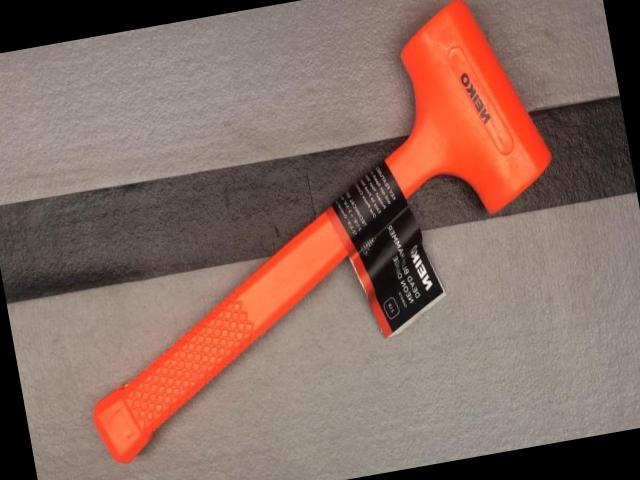hammer: (32, 0, 591, 466)
